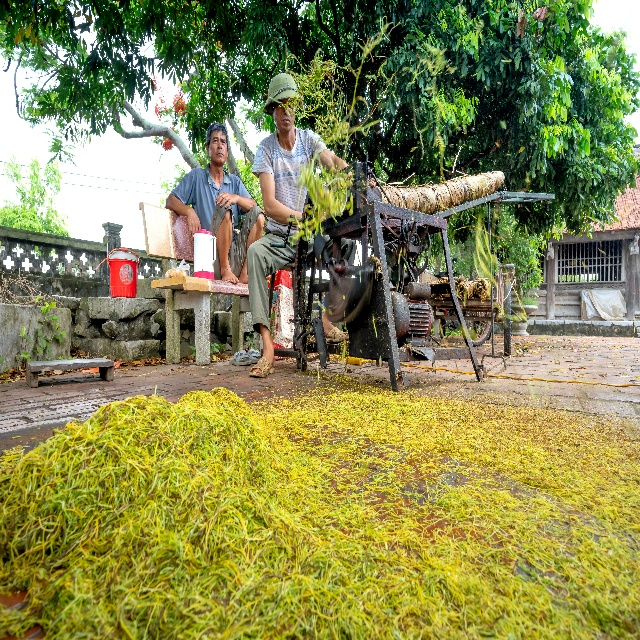Sin_guantes: (186, 207, 201, 244), (215, 192, 238, 208), (369, 177, 379, 187)
